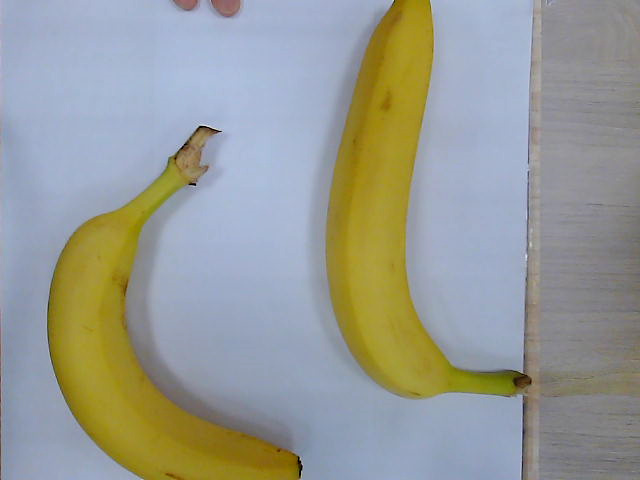fresh_banana: (49, 126, 305, 480), (325, 1, 536, 400)
